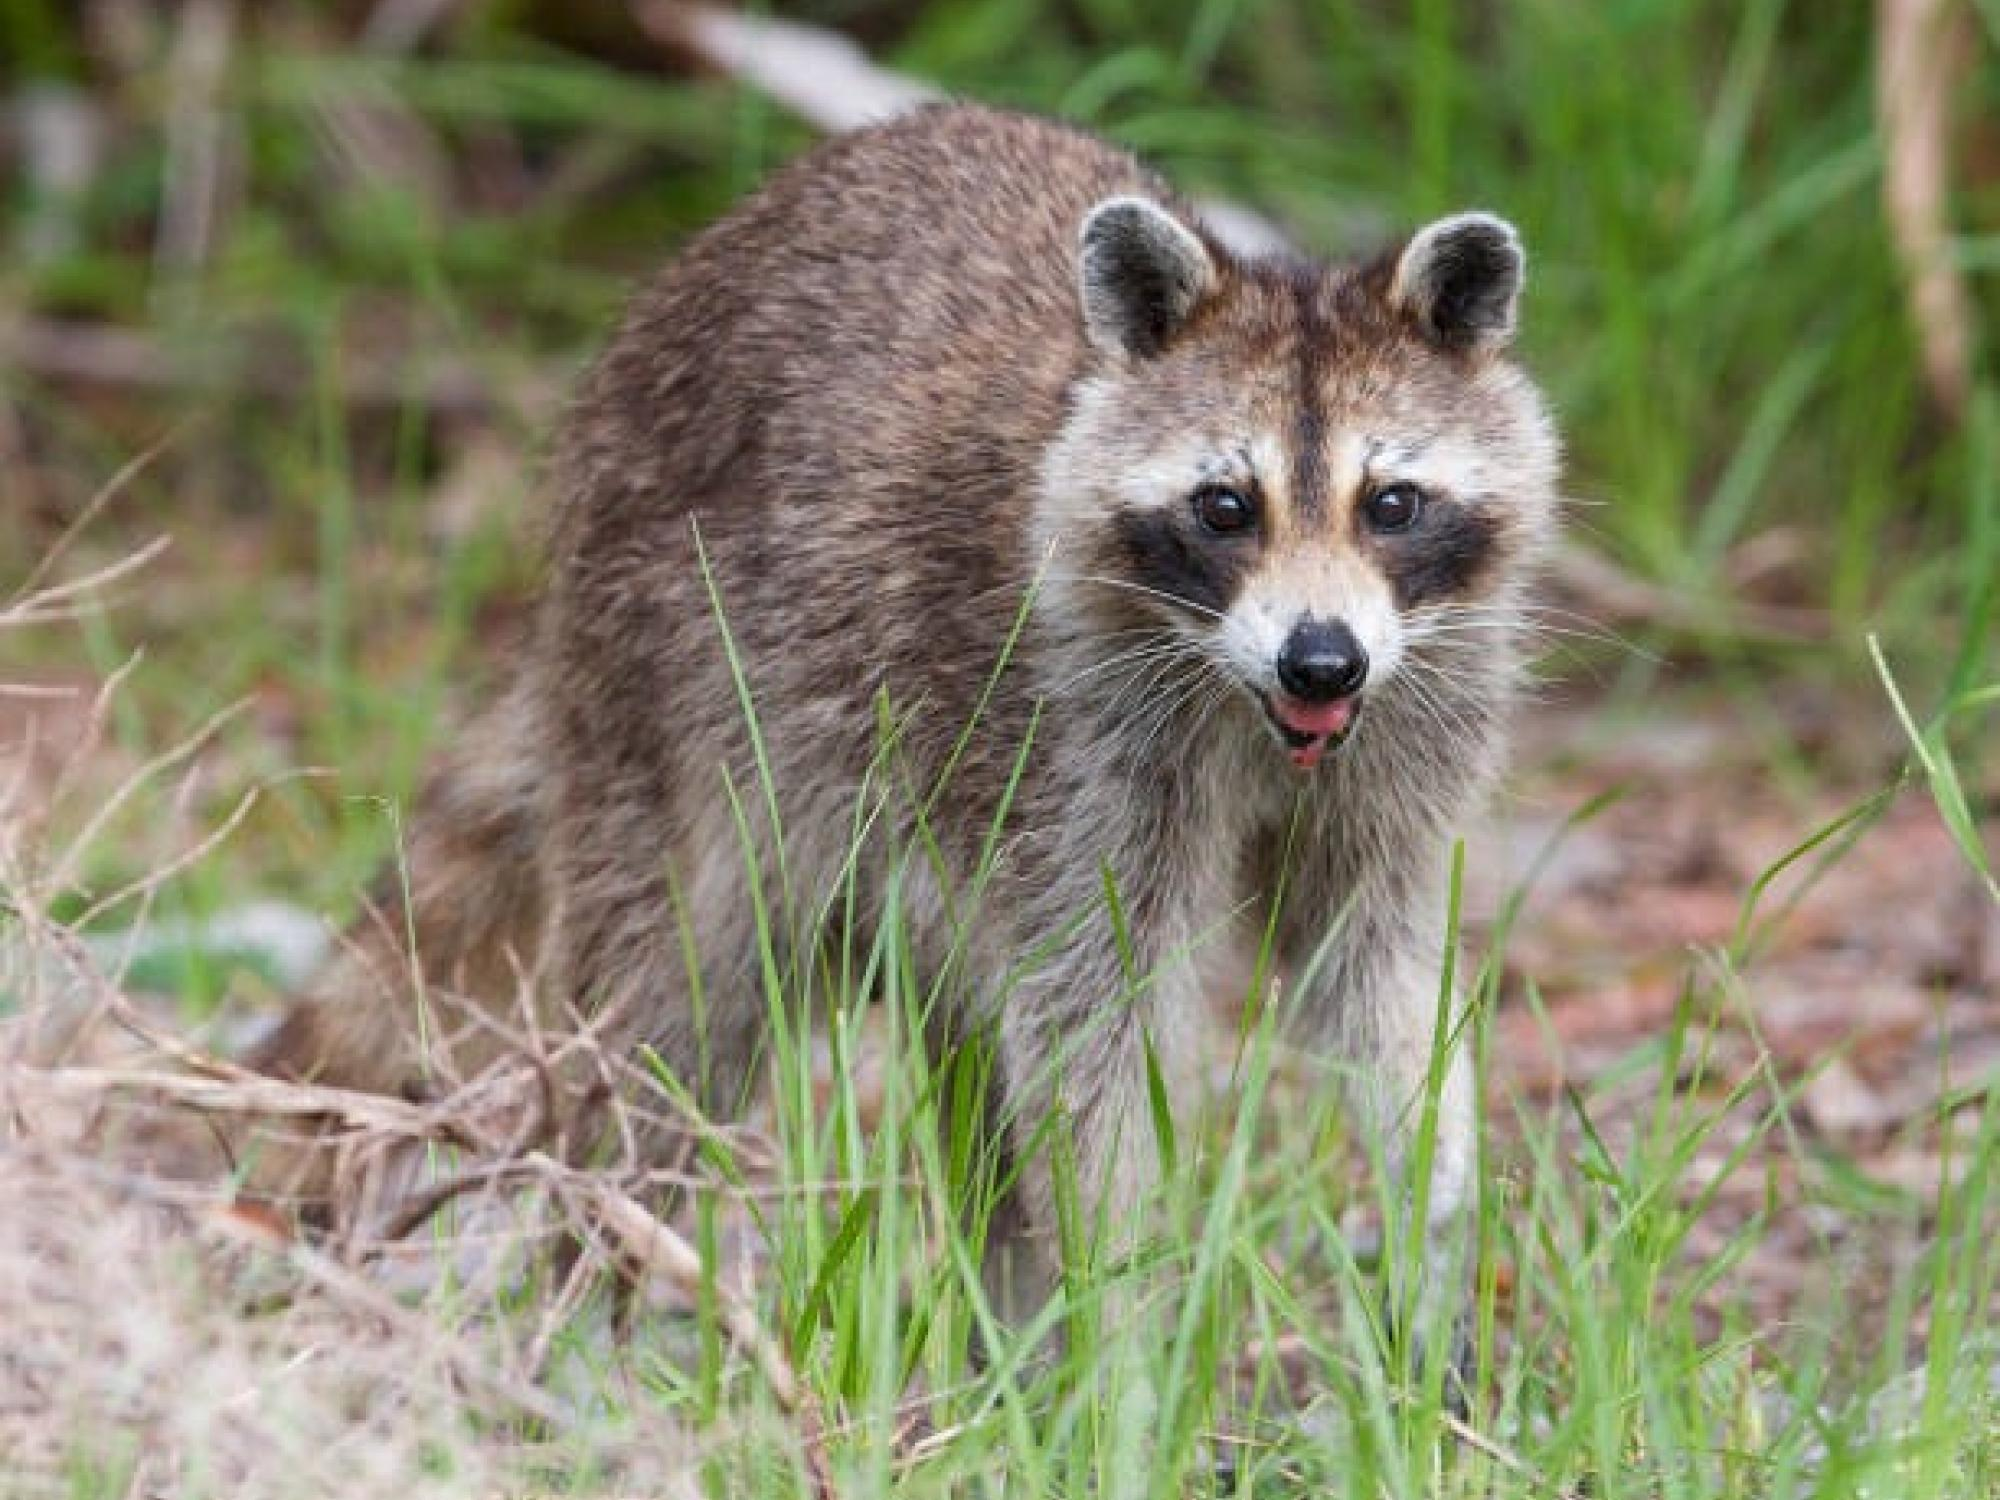raccoon: (250, 91, 1565, 1390)
